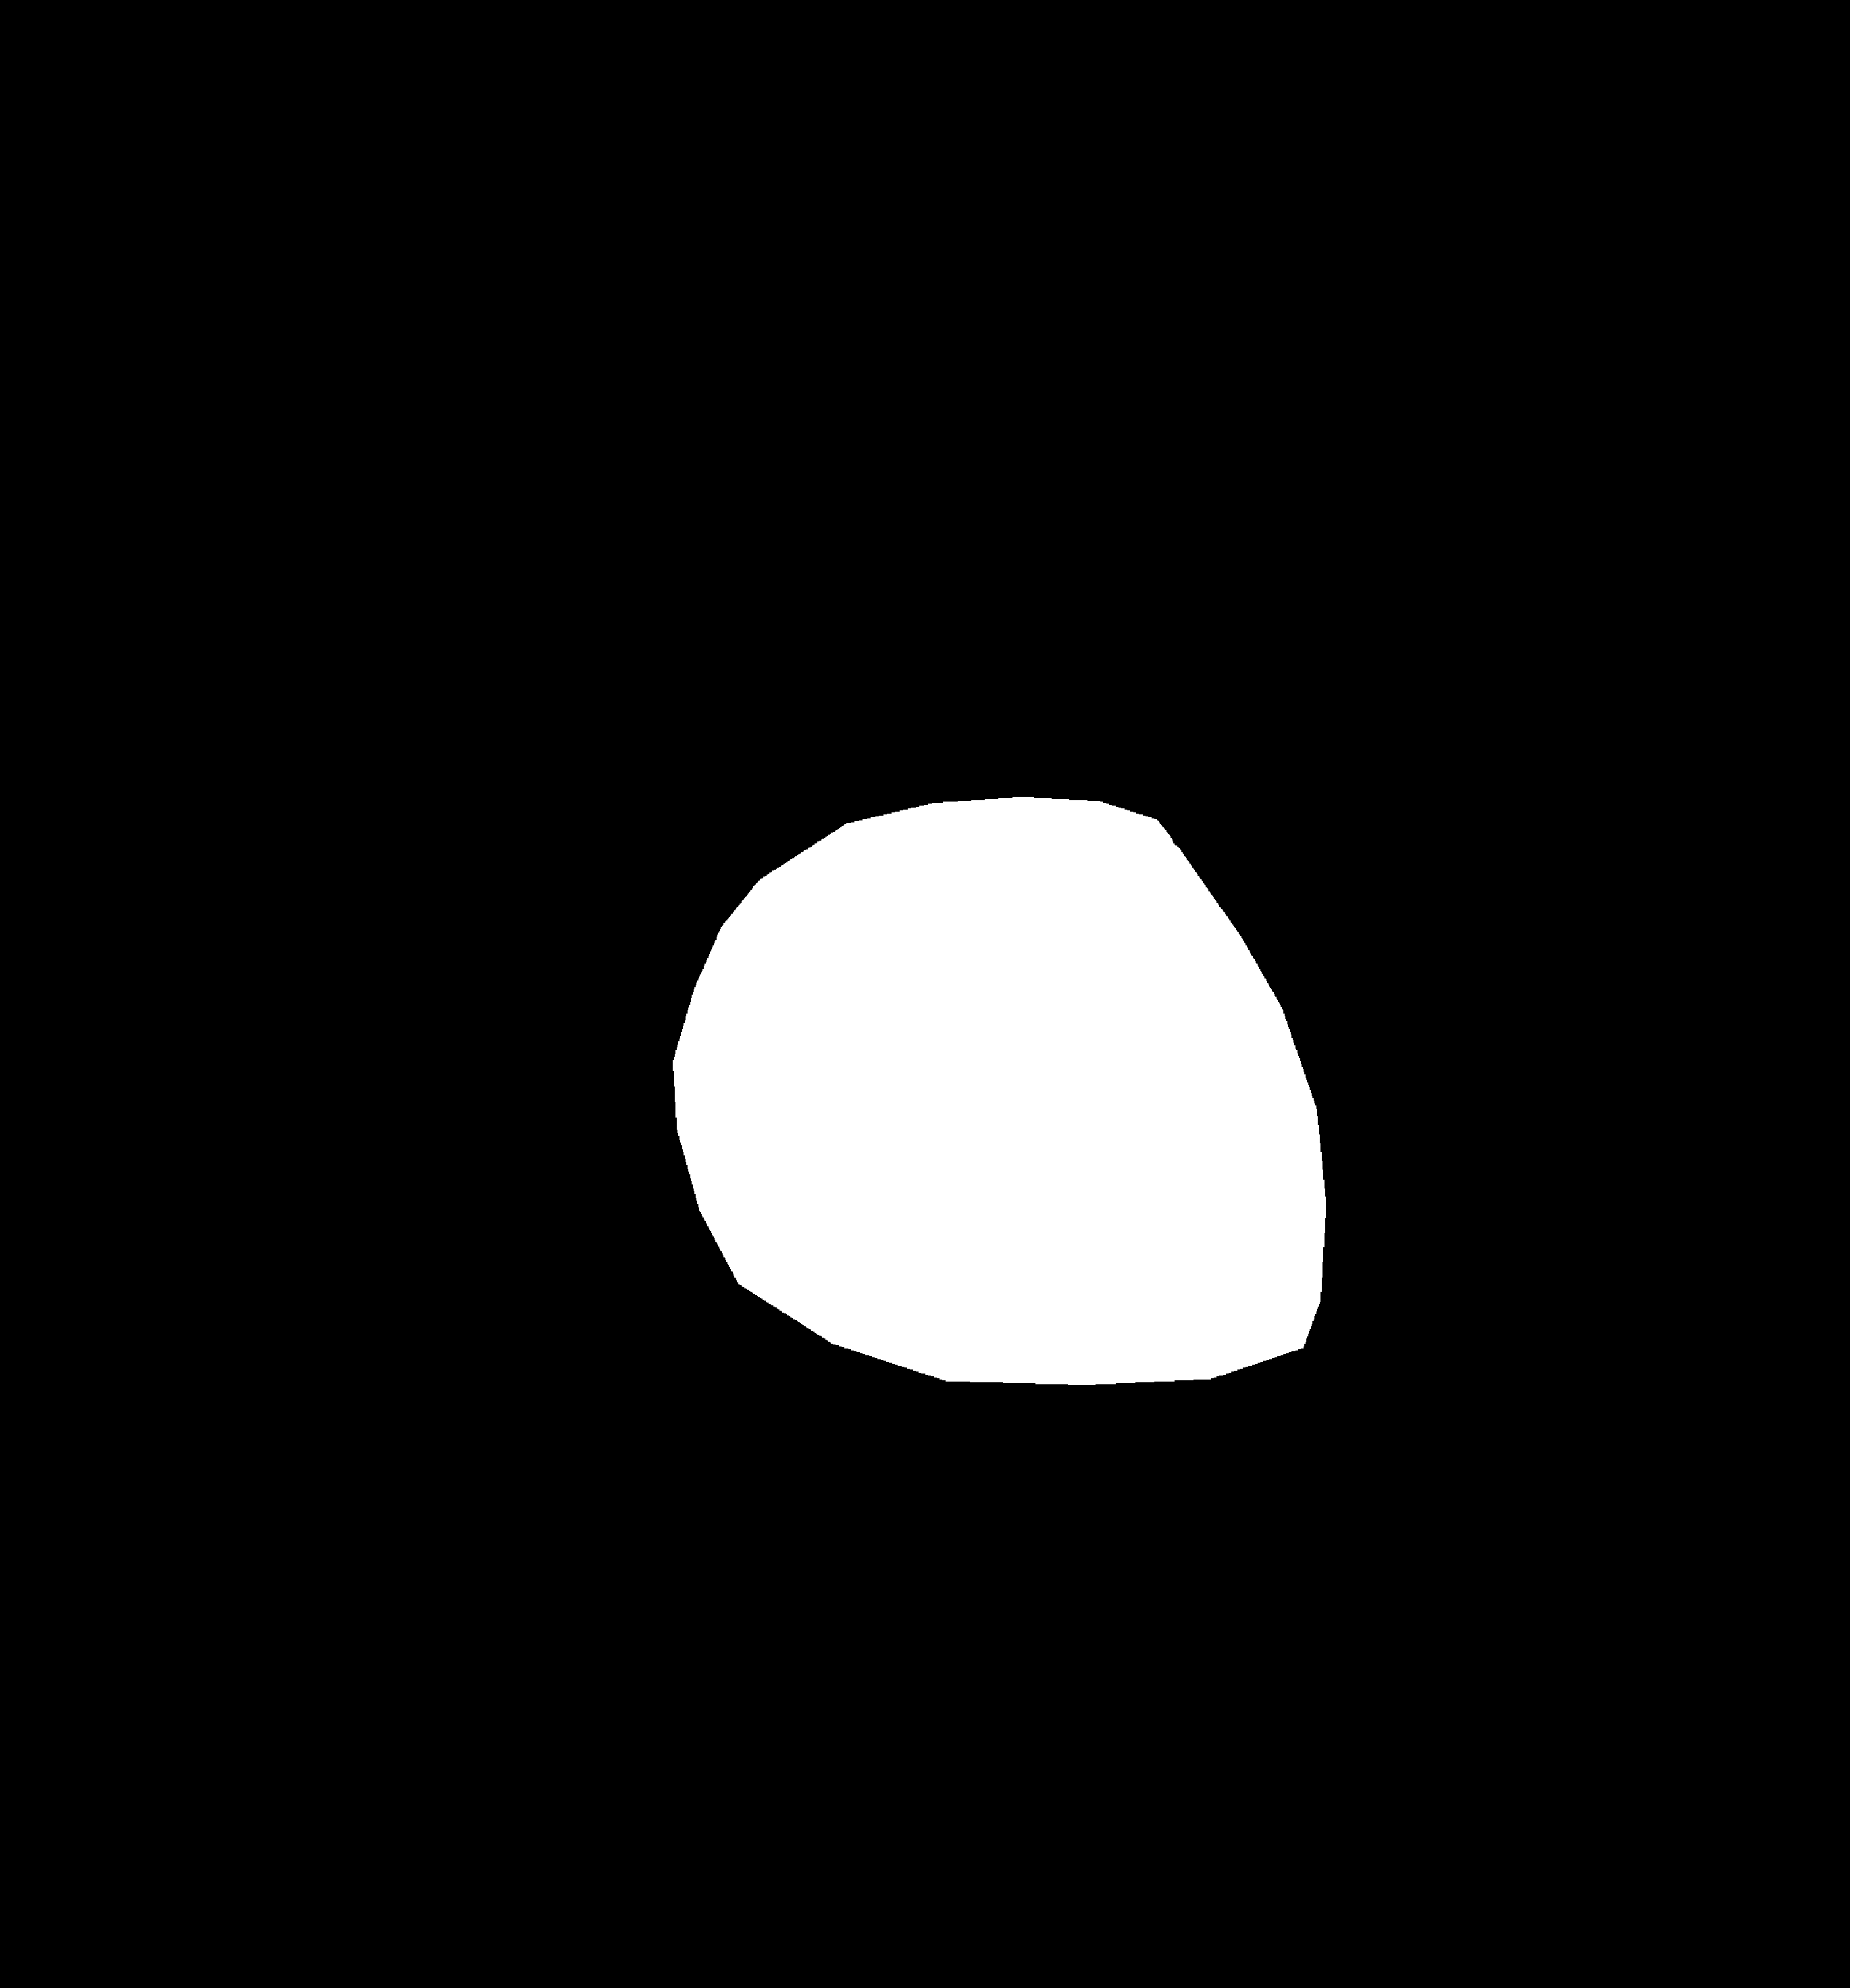heart: (682, 867, 1318, 1468)
left_lung: (200, 193, 868, 1500)
right_lung: (958, 222, 1596, 1527)
